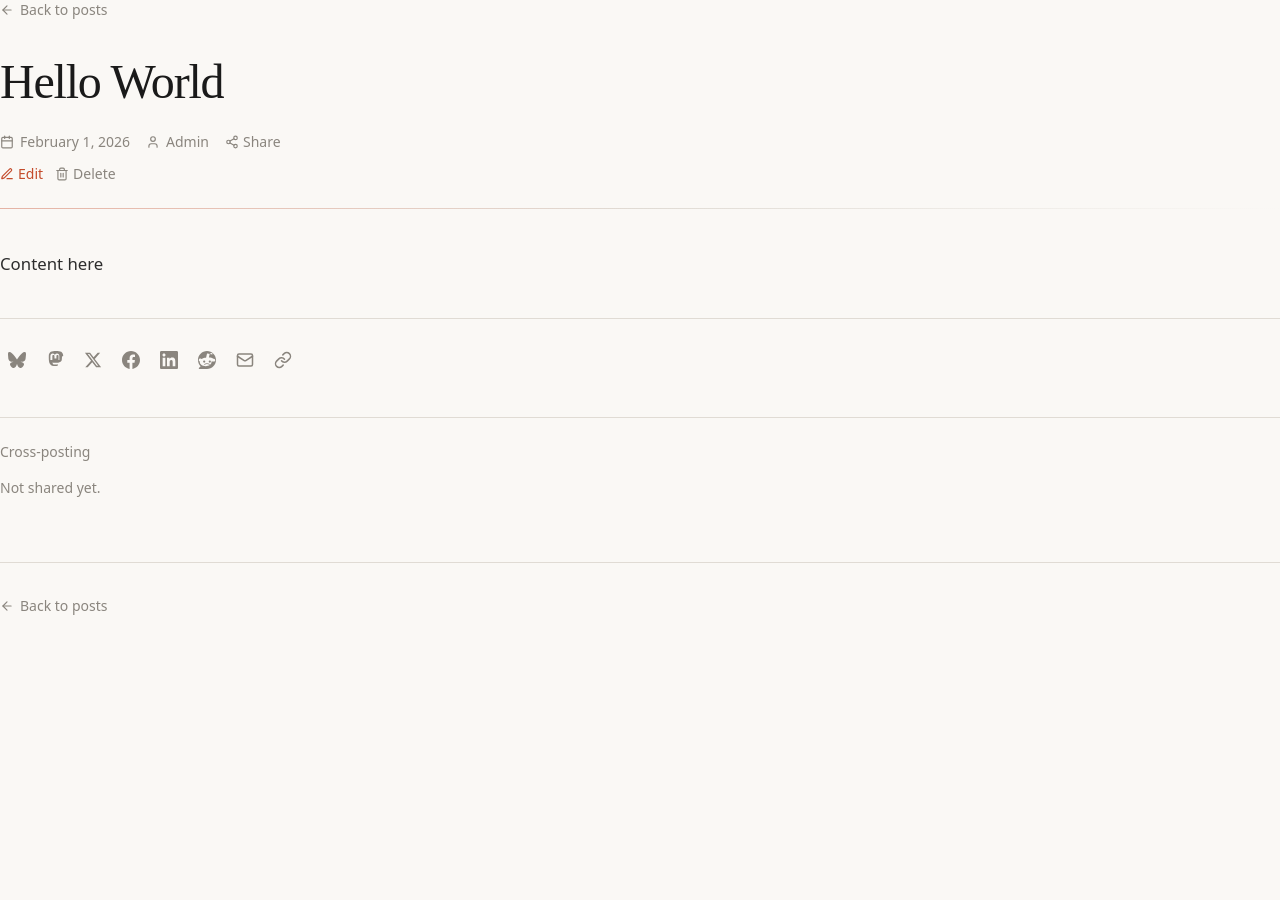
Test: PostPage › shows error on delete failure
Click the button "Delete" at (85, 174), box [55, 164, 116, 184]
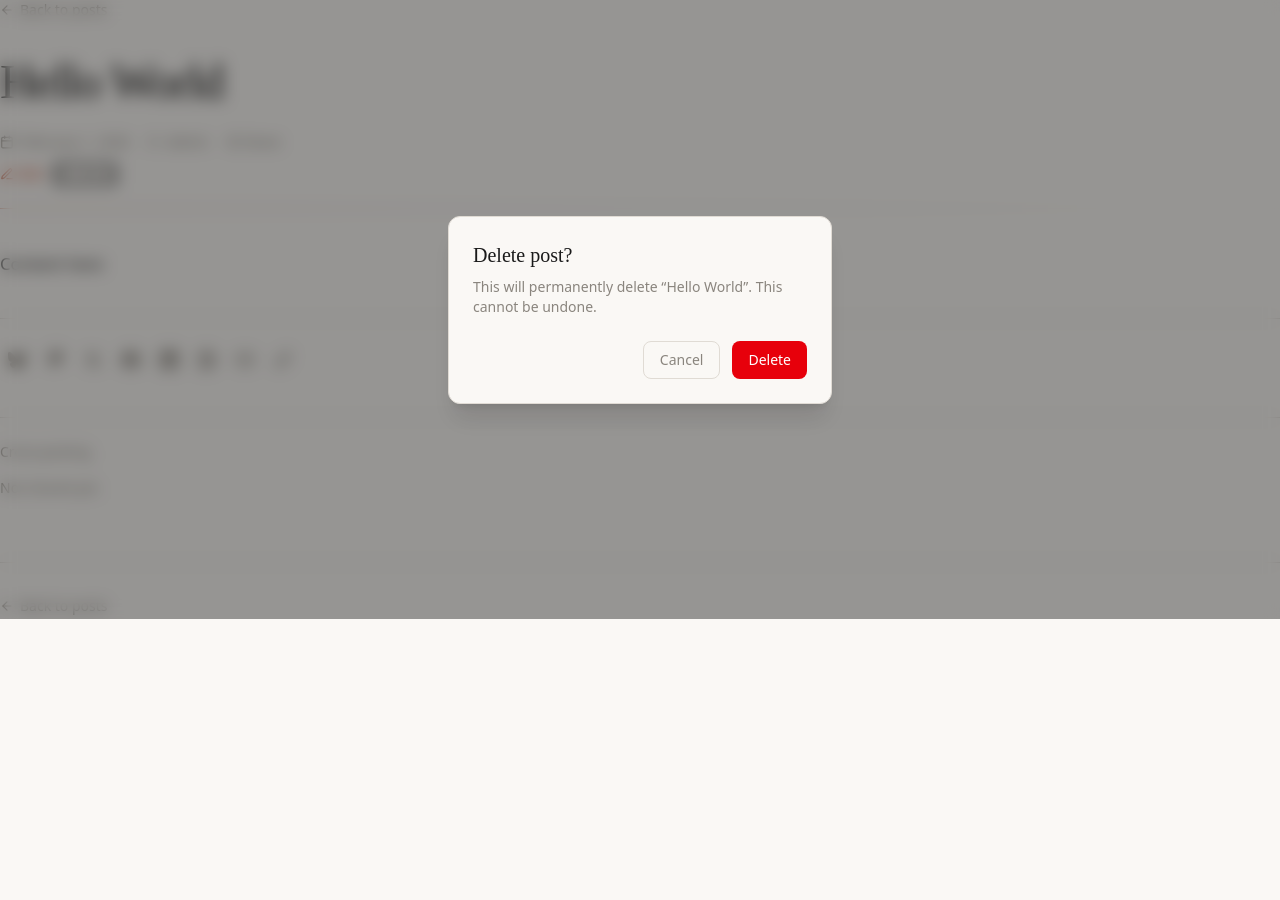
Click the button "Delete" at (770, 360), box [732, 341, 807, 379]
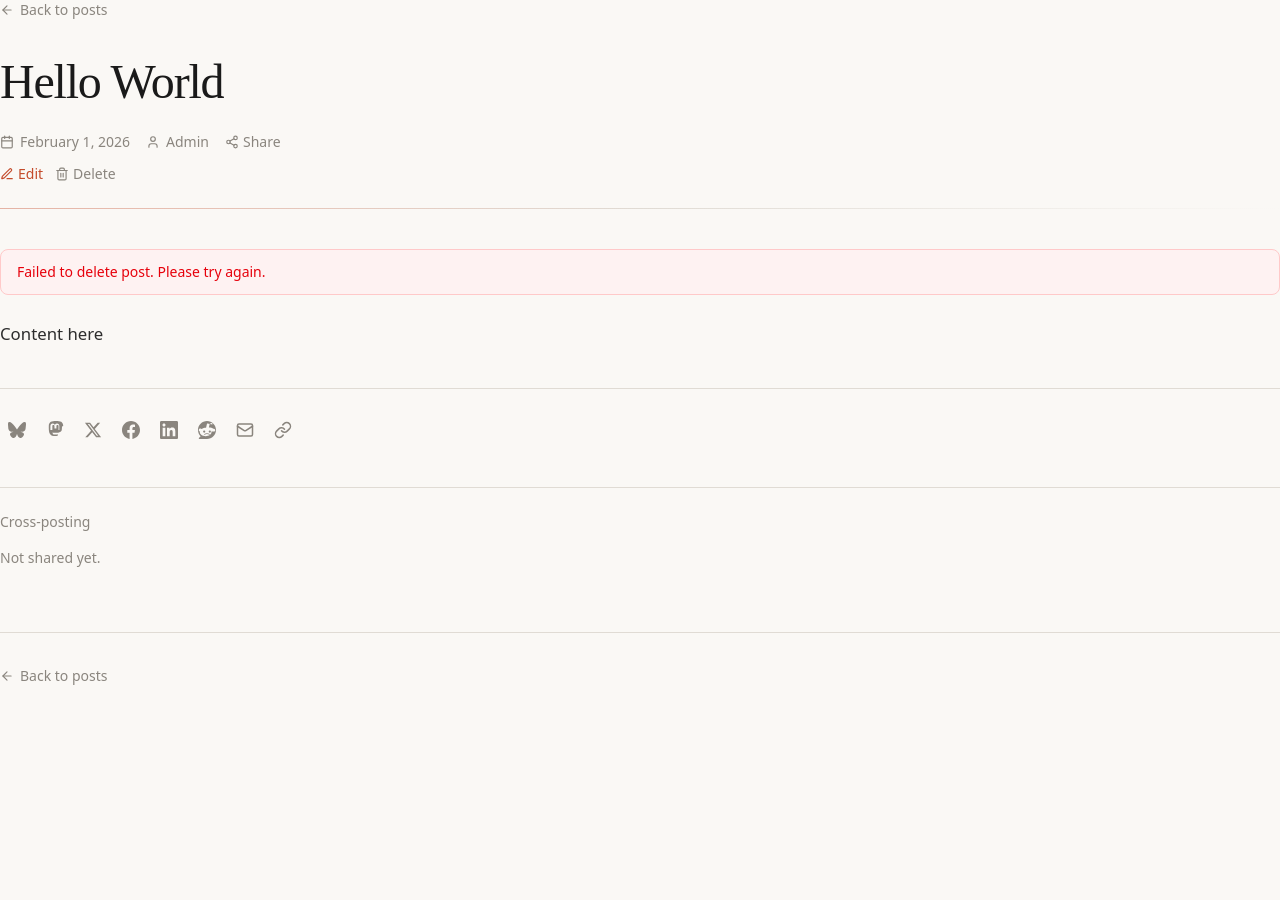
Expected: the text "Delete post?" is not shown
Expected: the text "Failed to delete post. Please try again." is shown, [0, 249, 1279, 295]
